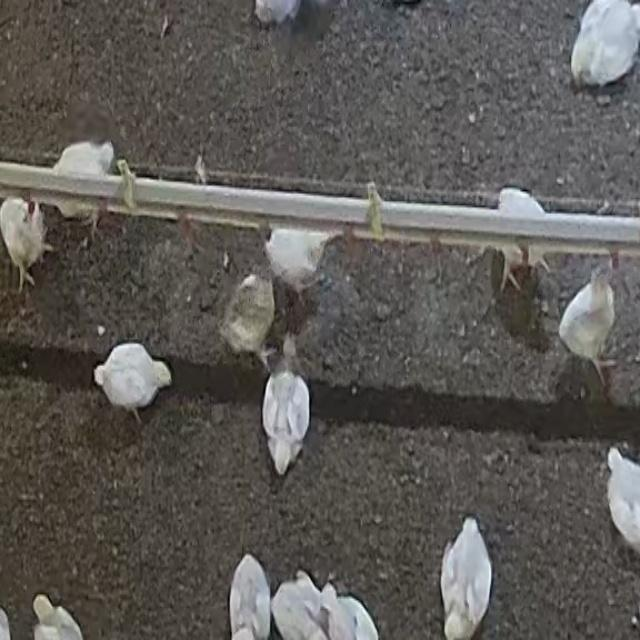chicken: (557, 264, 615, 390), (492, 187, 554, 291), (440, 520, 491, 638), (570, 0, 638, 87), (262, 355, 310, 477), (219, 260, 274, 366), (49, 143, 118, 224), (267, 220, 332, 300), (0, 198, 51, 299), (99, 344, 170, 416), (269, 573, 330, 640), (230, 553, 271, 640), (31, 594, 85, 640)
